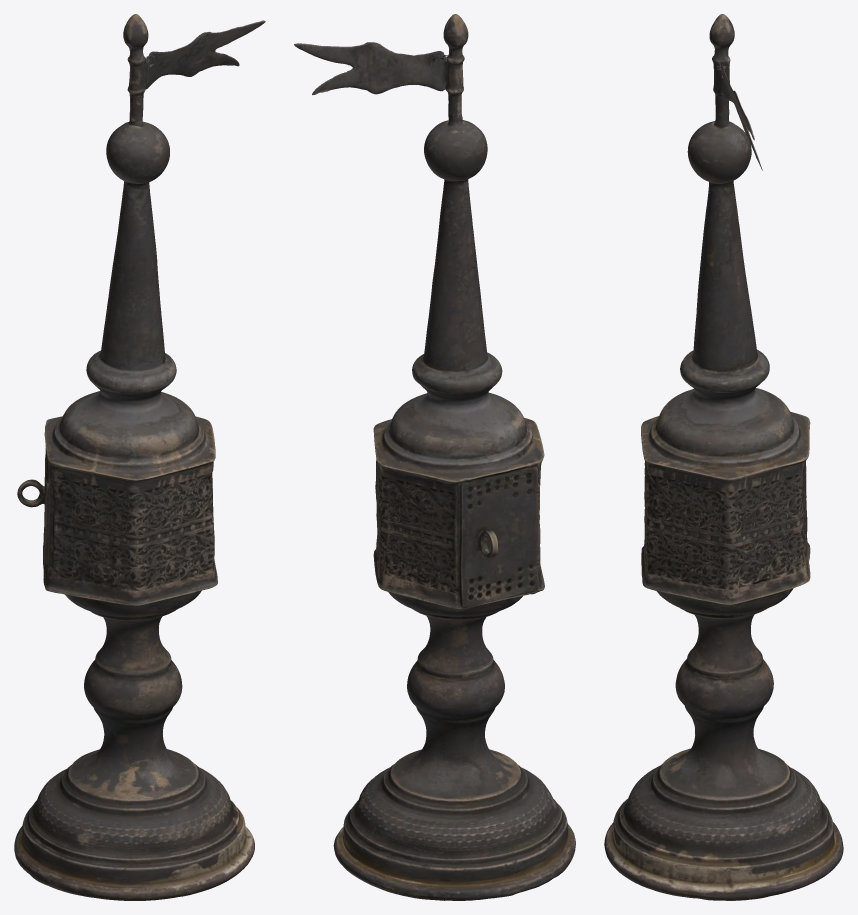
The model's file is preview.glb.
3 views of the same model, side by side, from view 1: azimuth 30°, elevation 25°; view 2: azimuth 150°, elevation 25°; view 3: azimuth 270°, elevation 25° (orthographic).
Visible parts, largest first — view 1: Object_4; view 2: Object_4; view 3: Object_4.
Boxes of the visible parts, box(x1,y1,x2,y2) form: Object_4: box(14, 14, 265, 900); Object_4: box(294, 14, 575, 900); Object_4: box(604, 14, 843, 900).
Bounding box in the file's own units: 8.81 × 28.19 × 7.28.
1 material, 1 textured.
